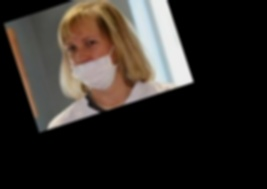mask_weared_incorrect: (60, 8, 123, 88)
